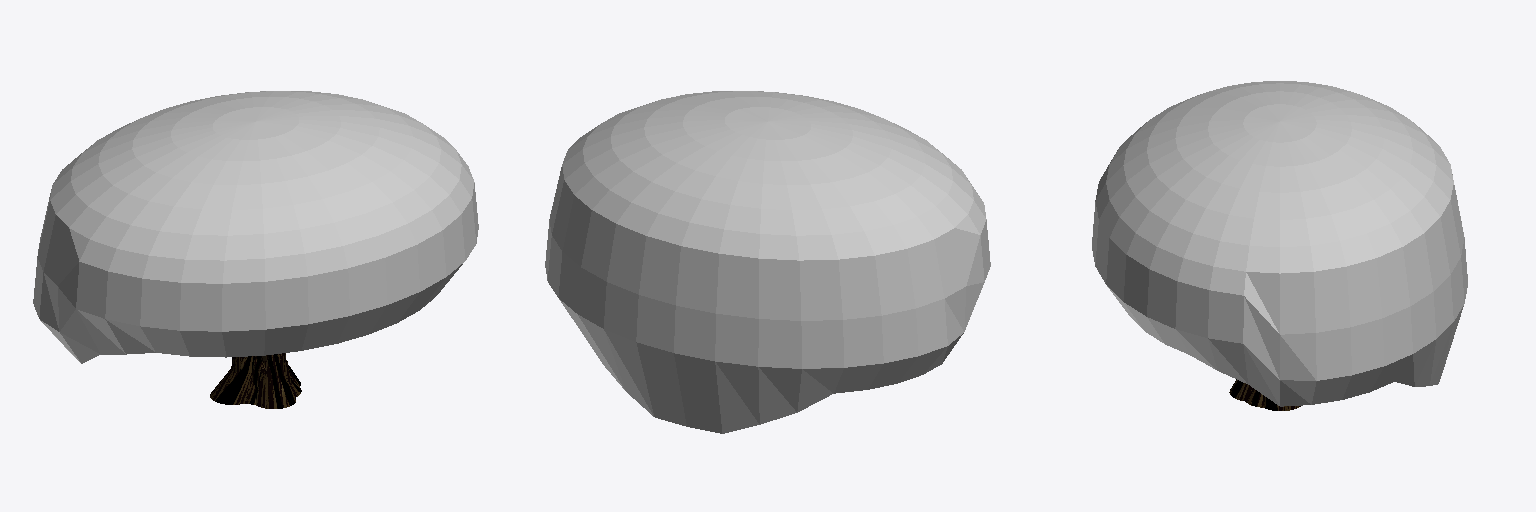
The picture shows the model from 3 angles: view 1: azimuth 30°, elevation 25°; view 2: azimuth 150°, elevation 25°; view 3: azimuth 270°, elevation 25°; orthographic projection.
Parts seen in each view (by area): view 1: Sphere, BezierCurve; view 2: Sphere; view 3: Sphere, BezierCurve.
Part boxes in pixels (bbox=[...]): Sphere: bbox=[33, 91, 478, 363]; BezierCurve: bbox=[210, 353, 301, 408]; Sphere: bbox=[545, 91, 990, 433]; Sphere: bbox=[1092, 81, 1467, 406]; BezierCurve: bbox=[1229, 379, 1300, 410].
Bounding box in the file's own units: 4.49 × 2.91 × 3.69.
2 materials, 1 textured.